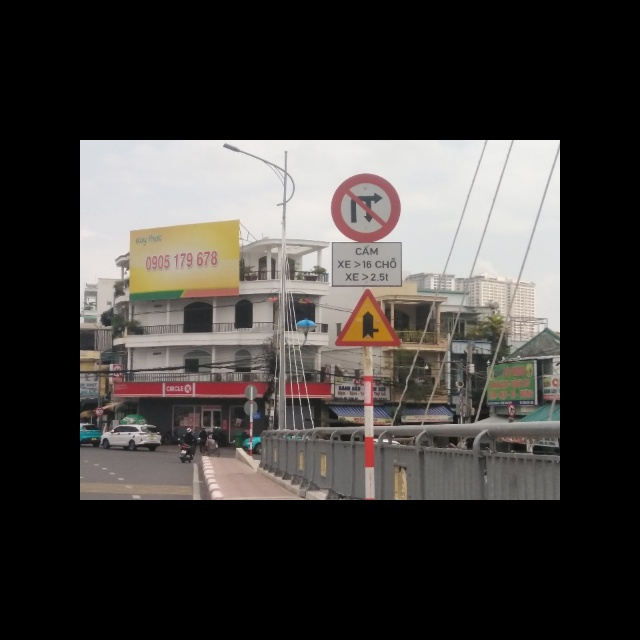Cấm quay đầu và rẽ phải: (331, 174, 400, 242)
Giao nhau với đường không ưu tiên: (333, 286, 402, 345)
